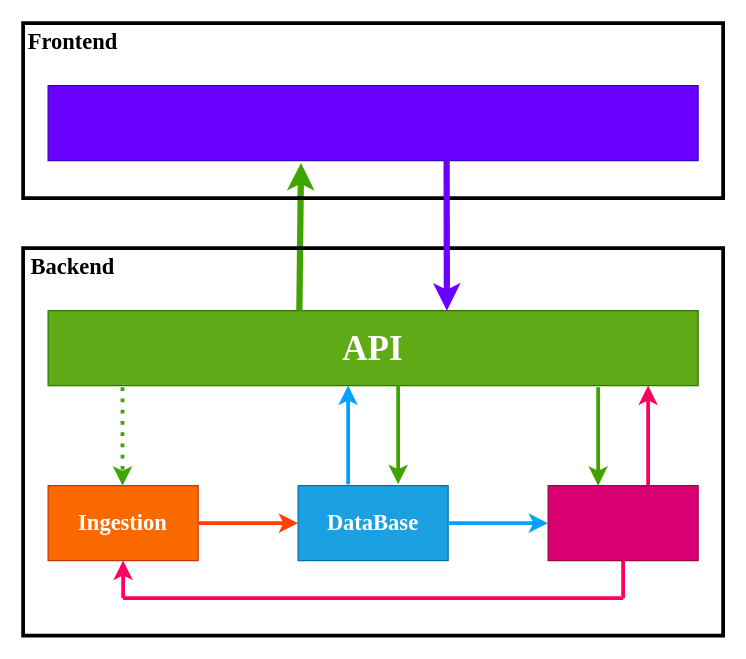
The diagram is 746 pixels wide and 659 high, and some of its shapes have lost their labels. Here are the shapes that lost their labels. From the top down, the centre of each, then its label:
At (372,122): "CLI".
At (622,522): "Agent".
